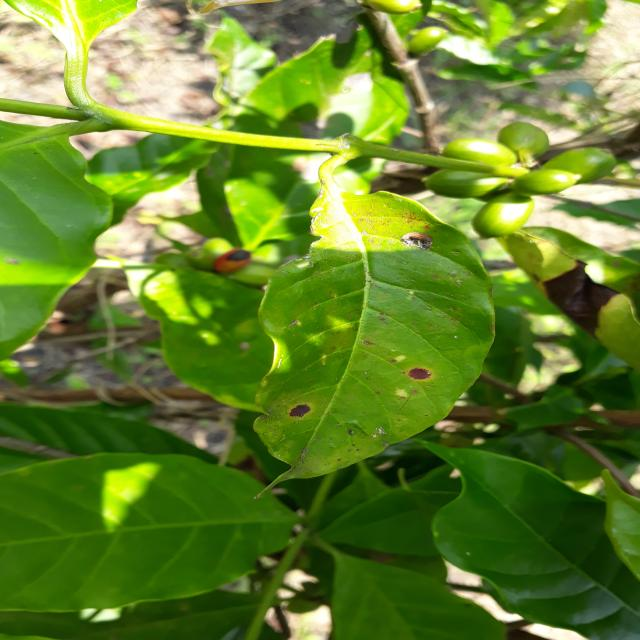Enfermedad-Roya: (251, 189, 488, 487)
